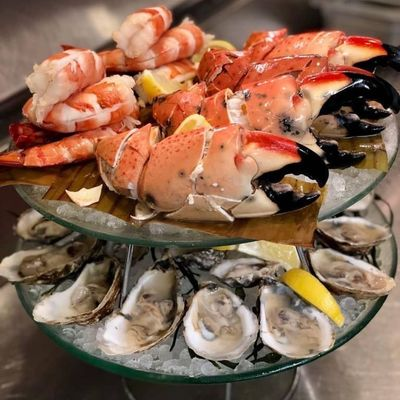pasta: (281, 267, 346, 327)
sushi: (3, 214, 390, 399)
